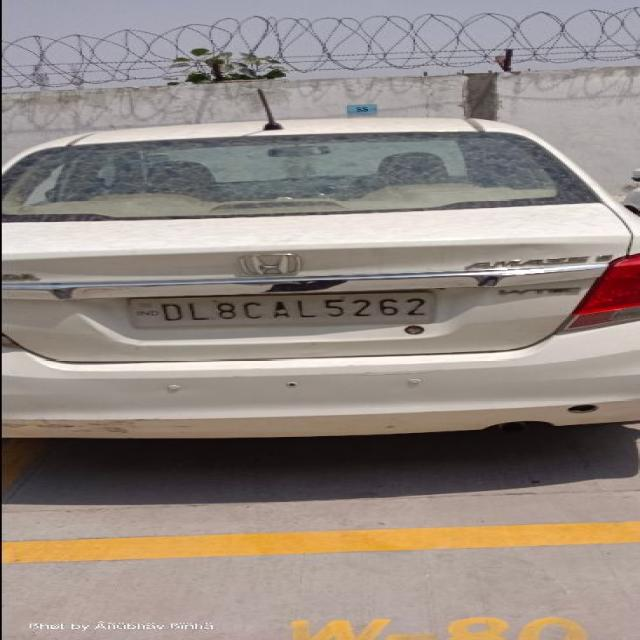license_plate: (124, 290, 438, 328)
